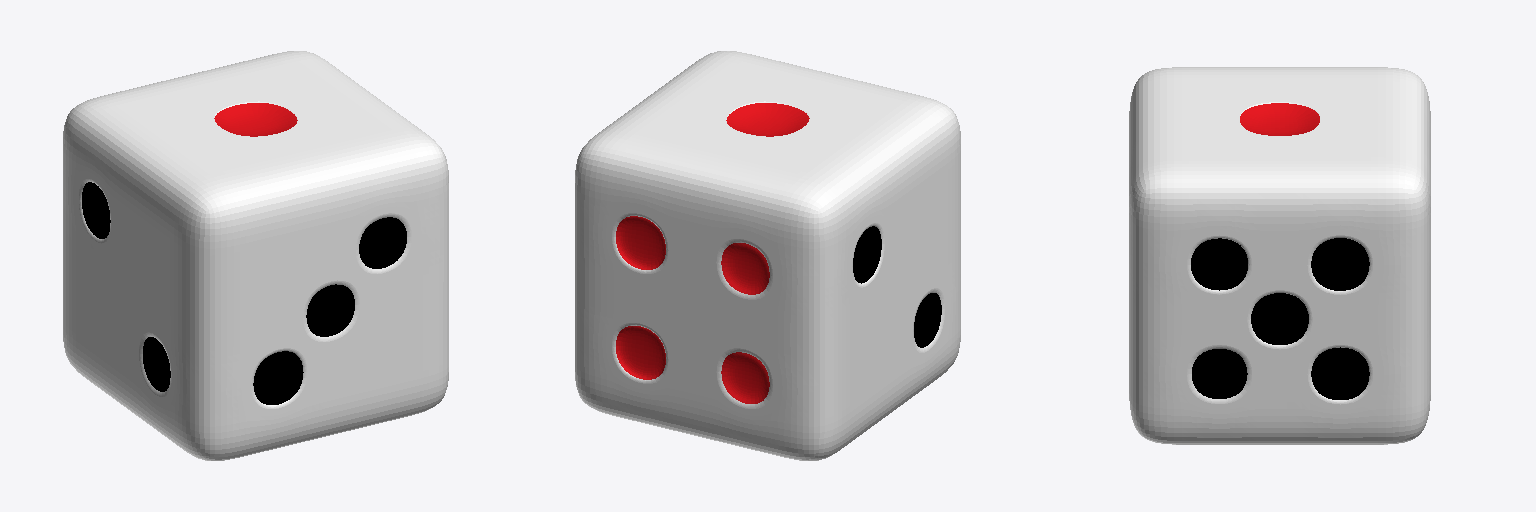
3 views of the same model, side by side, from view 1: azimuth 30°, elevation 25°; view 2: azimuth 150°, elevation 25°; view 3: azimuth 270°, elevation 25° (orthographic).
Parts seen in each view (by area): view 1: Cube; view 2: Cube; view 3: Cube.
Part boxes in pixels (x1,y1,x2,y2): Cube: (63, 51, 448, 460); Cube: (575, 51, 960, 460); Cube: (1129, 67, 1430, 444).
Size of the model in its own units: 3.05 by 3.05 by 3.05.
Materials: 2 (1 with a texture image).